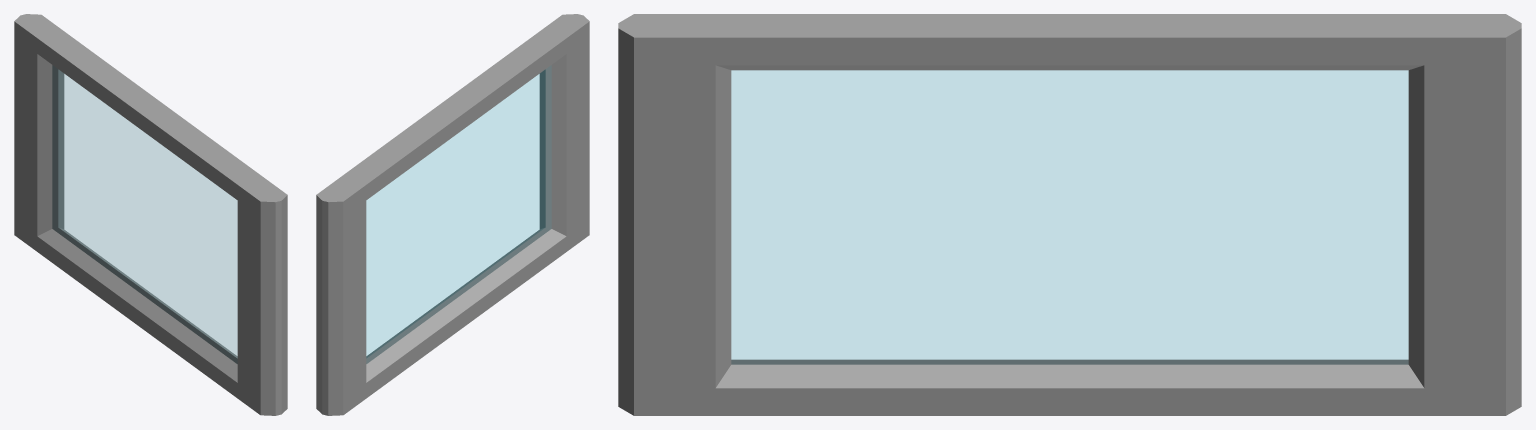
File: SM_Bigwindow.fbx
3 views of the same model, side by side, from view 1: azimuth 30°, elevation 25°; view 2: azimuth 150°, elevation 25°; view 3: azimuth 270°, elevation 25° (orthographic). The views are drawn at different scales.
Visible parts, largest first — view 1: pCube5; view 2: pCube5; view 3: pCube5.
Part boxes in pixels (x1,y1,x2,y2): pCube5: [14, 14, 287, 415]; pCube5: [316, 14, 589, 415]; pCube5: [618, 14, 1521, 415].
Size of the model in its own units: 4.6 by 34.5 by 74.63.
